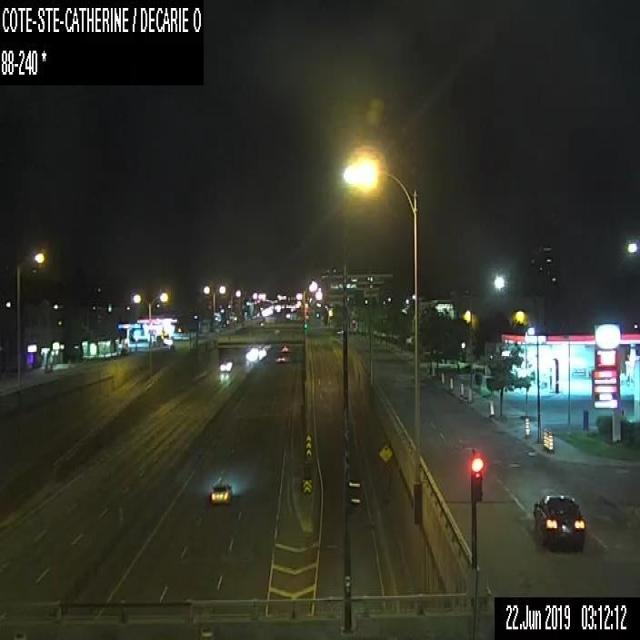construction: (524, 416, 530, 436), (542, 428, 546, 448), (548, 431, 552, 450), (489, 399, 494, 414), (545, 428, 548, 448), (467, 386, 471, 401), (460, 382, 463, 394), (450, 377, 452, 388), (441, 372, 443, 382)
vehicle: (531, 493, 584, 552), (211, 480, 232, 503), (219, 359, 232, 371), (276, 354, 284, 362), (281, 344, 287, 350)
